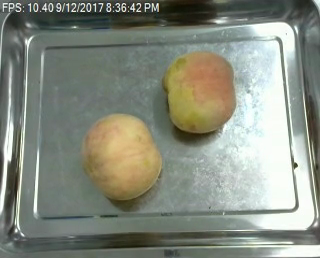Peach: (82, 112, 161, 201), (163, 49, 236, 134)
